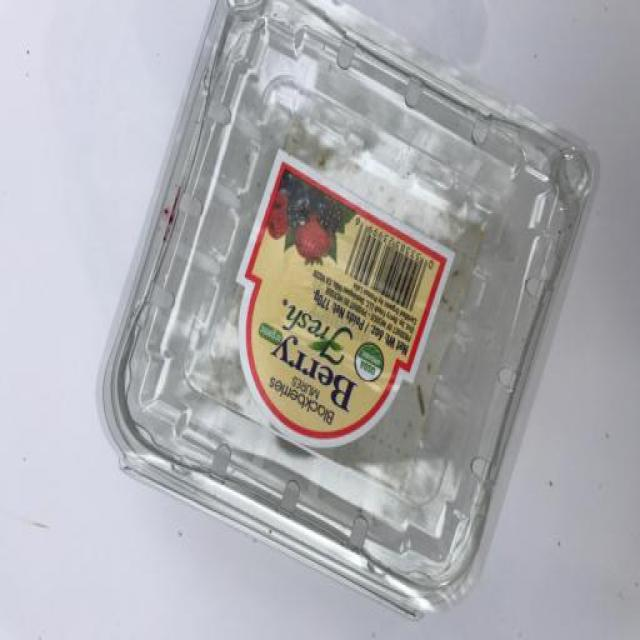plastic: (82, 2, 609, 618)
